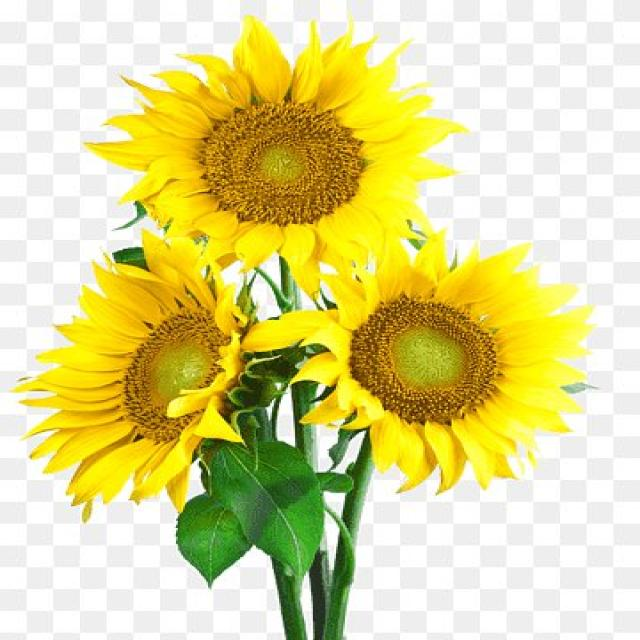sunflower: (81, 12, 468, 296), (242, 228, 596, 494), (11, 228, 258, 521)
